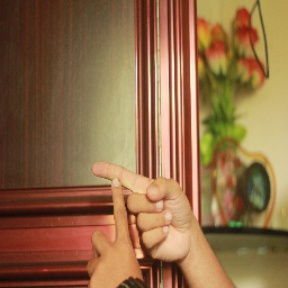T: (76, 154, 171, 268)
